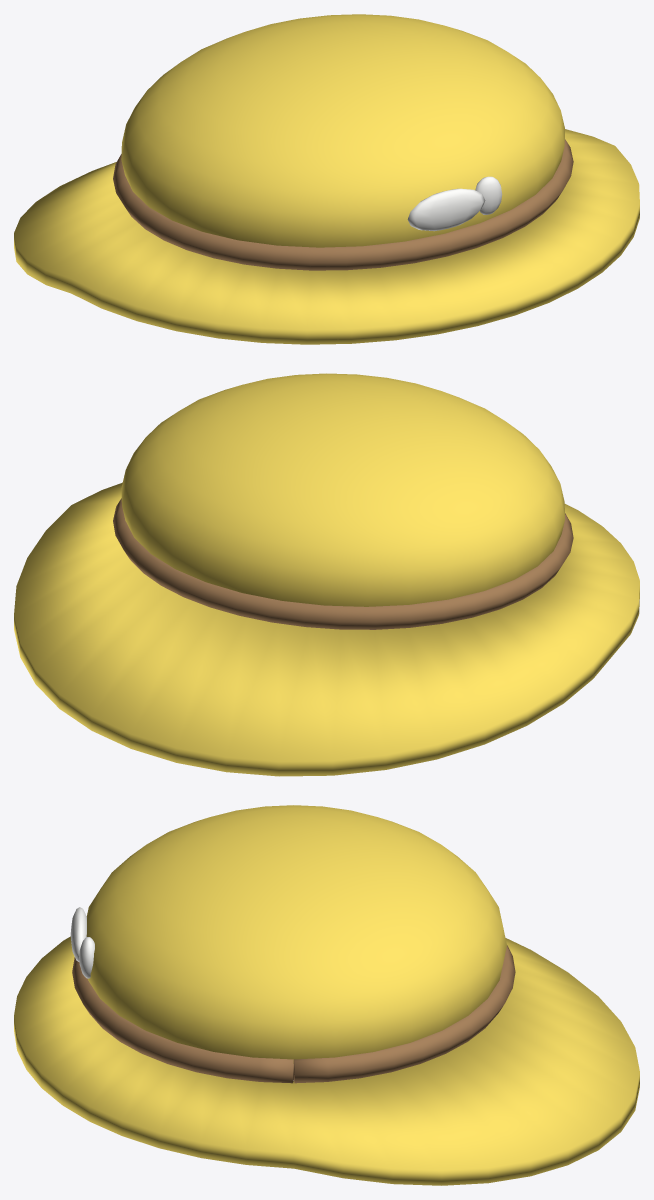
File: FisherHat.fbx
3 views of the same model, one above another, from view 1: azimuth 30°, elevation 25°; view 2: azimuth 150°, elevation 25°; view 3: azimuth 270°, elevation 25° (orthographic). The views are drawn at different scales.
Parts seen in each view (by area): view 1: FisherHat; view 2: FisherHat; view 3: FisherHat.
Part boxes in pixels (x1=…): FisherHat: x1=14, y1=14, x2=639, y2=344; FisherHat: x1=14, y1=373, x2=639, y2=776; FisherHat: x1=14, y1=805, x2=639, y2=1185.
Size of the model in its own units: 0.8451 by 0.342 by 0.8075.
